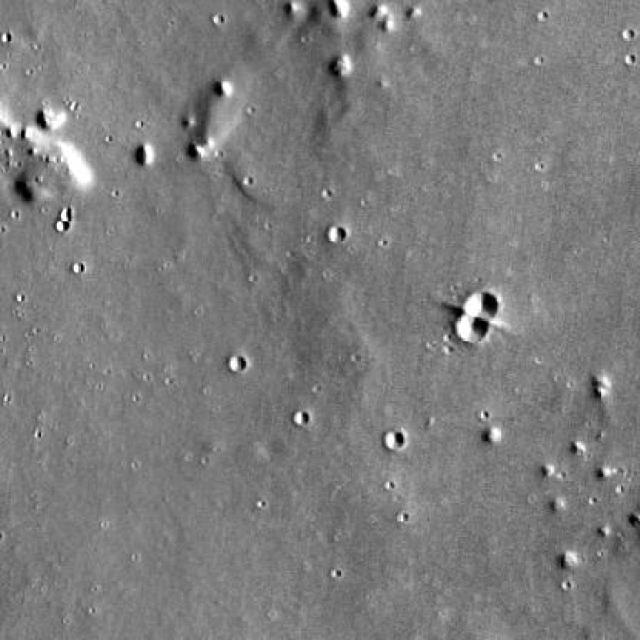crater: (466, 292, 503, 326), (458, 317, 487, 345), (383, 432, 403, 450), (328, 228, 346, 245), (228, 355, 246, 371)
